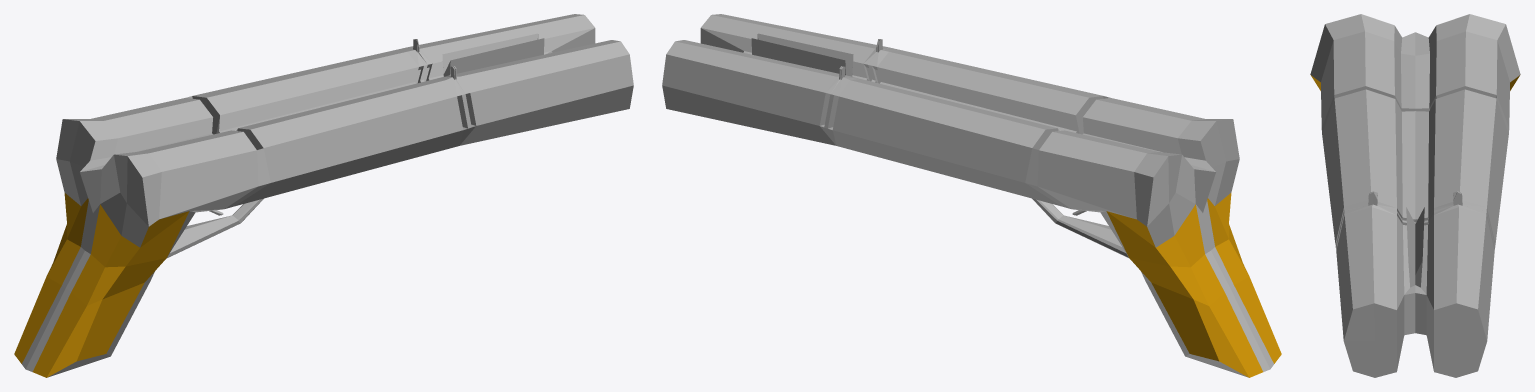
Rendered from shotgun_combined.glb.
3 views of the same model, side by side, from view 1: azimuth 30°, elevation 25°; view 2: azimuth 150°, elevation 25°; view 3: azimuth 270°, elevation 25° (orthographic). The views are drawn at different scales.
Visible parts, largest first — view 1: Cube; view 2: Cube; view 3: Cube.
Boxes of the visible parts, bbox=[...] form: Cube: bbox=[14, 14, 633, 377]; Cube: bbox=[662, 14, 1281, 377]; Cube: bbox=[1310, 14, 1520, 377].
Size of the model in its own units: 10.05 by 3.72 by 2.79.
